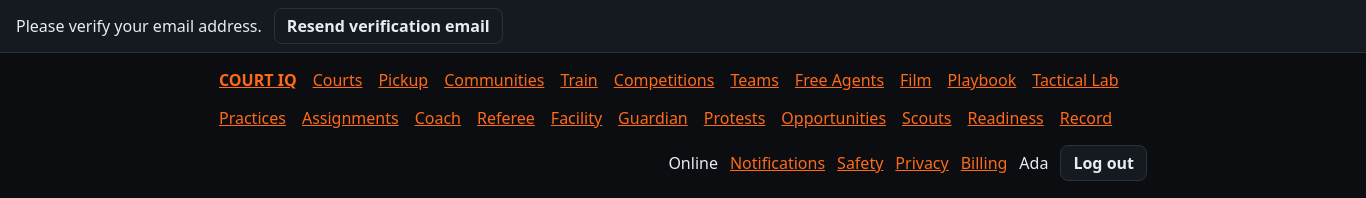
Test: verification banner in SiteNav › resends and confirms
Click the button "Resend verification email".
click(388, 26)  # box [274,8,503,44]
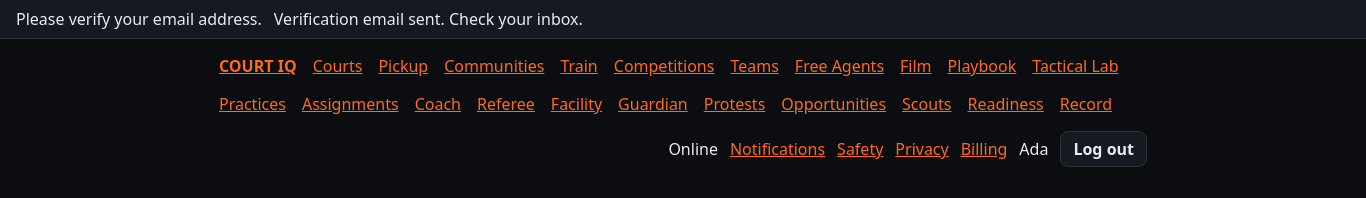
Expected: the text "Verification email sent. Check your inbox." is shown, [274,8,583,30]
